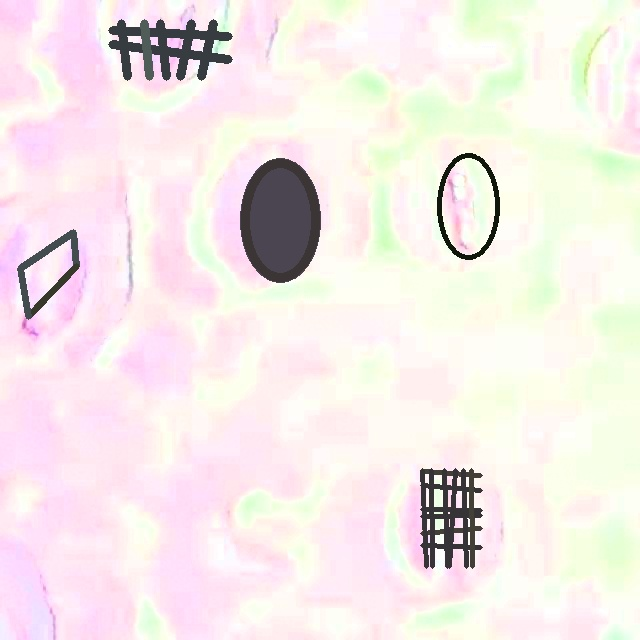close: (17, 230, 79, 319)
open: (240, 158, 321, 282), (108, 19, 232, 80), (437, 152, 499, 261), (420, 468, 482, 567)
